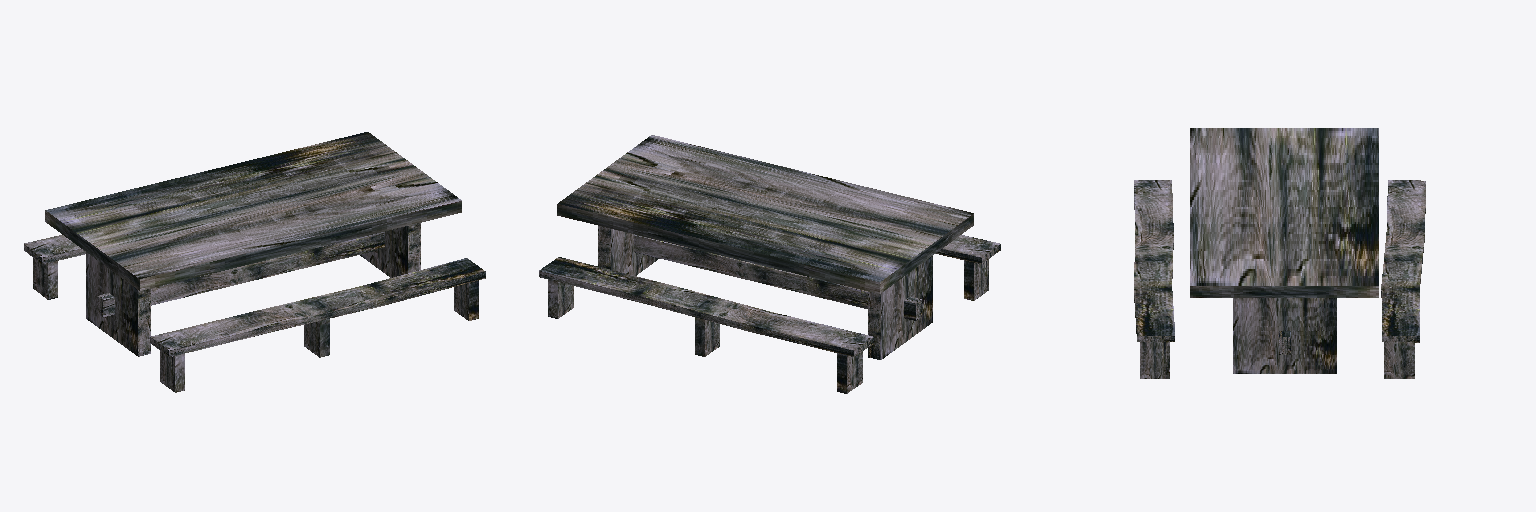
3 renders of one model, left to right at view 1: azimuth 30°, elevation 25°; view 2: azimuth 150°, elevation 25°; view 3: azimuth 270°, elevation 25°, orthographic.
Parts seen in each view (by area): view 1: Box468, Box472, Box471, Box469, Box470, Box7269, Box516, Box7266, Box518, Box517; view 2: Box468, Box7269, Box471, Box469, Box470, Box472, Box7266, Box516, Box7268, Box7267; view 3: Box468, Box470, Box472, Box7269, Box7268, Box518.
Boxes of the visible parts, box(x1,y1,x2,y2) form: Box468: box(45, 132, 461, 290); Box472: box(150, 258, 485, 356); Box471: box(97, 232, 384, 316); Box469: box(86, 252, 150, 356); Box470: box(360, 223, 420, 277); Box7269: box(24, 235, 85, 263); Box516: box(160, 351, 184, 392); Box7266: box(33, 258, 57, 299); Box518: box(454, 281, 478, 320); Box517: box(304, 319, 329, 357); Box468: box(557, 135, 973, 293); Box7269: box(539, 257, 873, 356); Box471: box(634, 234, 921, 320); Box469: box(868, 256, 932, 359); Box470: box(598, 226, 658, 275); Box472: box(936, 235, 1000, 263); Box7266: box(837, 351, 862, 393); Box516: box(964, 259, 988, 300); Box7268: box(548, 280, 573, 318); Box7267: box(695, 317, 719, 356); Box468: box(1190, 128, 1378, 297); Box470: box(1233, 298, 1336, 373); Box472: box(1134, 180, 1174, 341); Box7269: box(1381, 180, 1425, 342); Box7268: box(1384, 342, 1414, 378); Box518: box(1140, 342, 1169, 378).
Size of the model in its own units: 19.6 by 5.69 by 15.39.
1 materials, 1 textured.